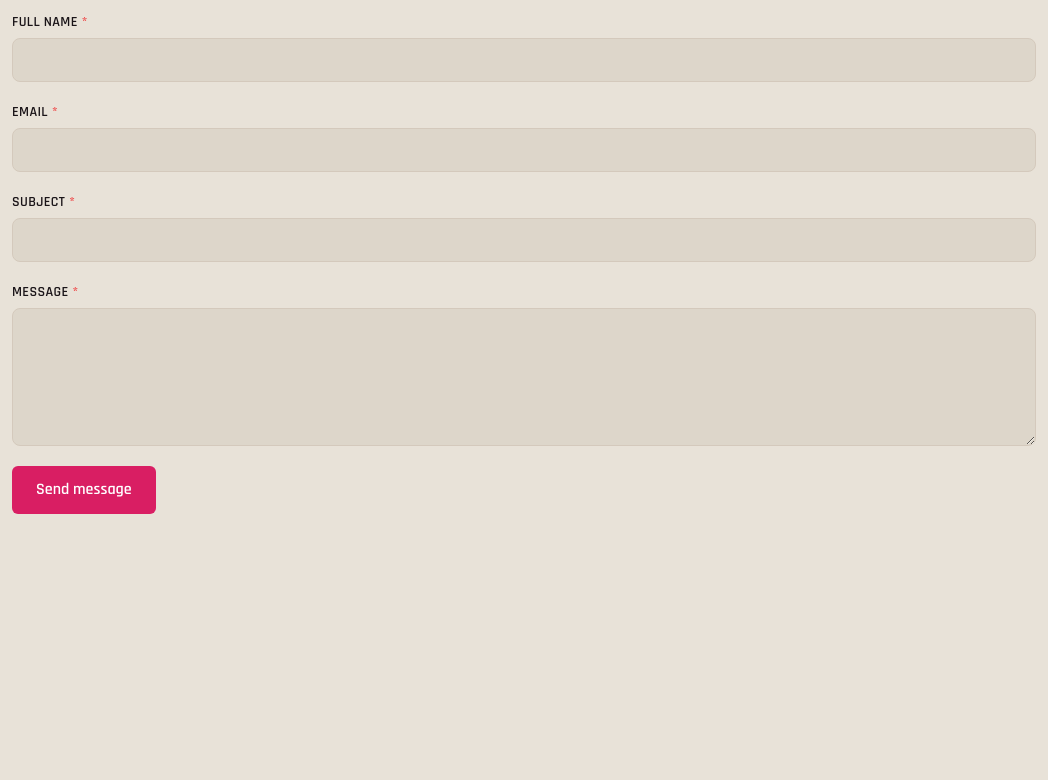
ContactForm › submits valid data and shows success
In the field labelled "Full name*": (524, 60) [12,38,1036,82], type "Asha Kulkarni"
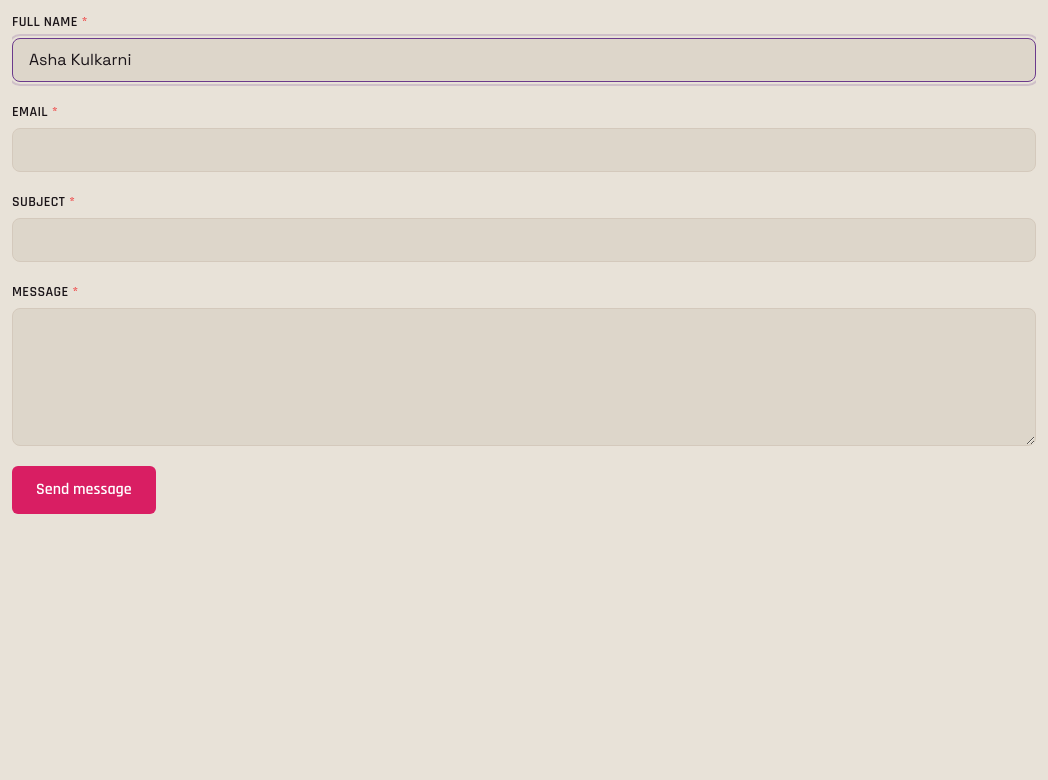
In the field labelled "Email*": (524, 150) [12,128,1036,172], type "asha@example.com"
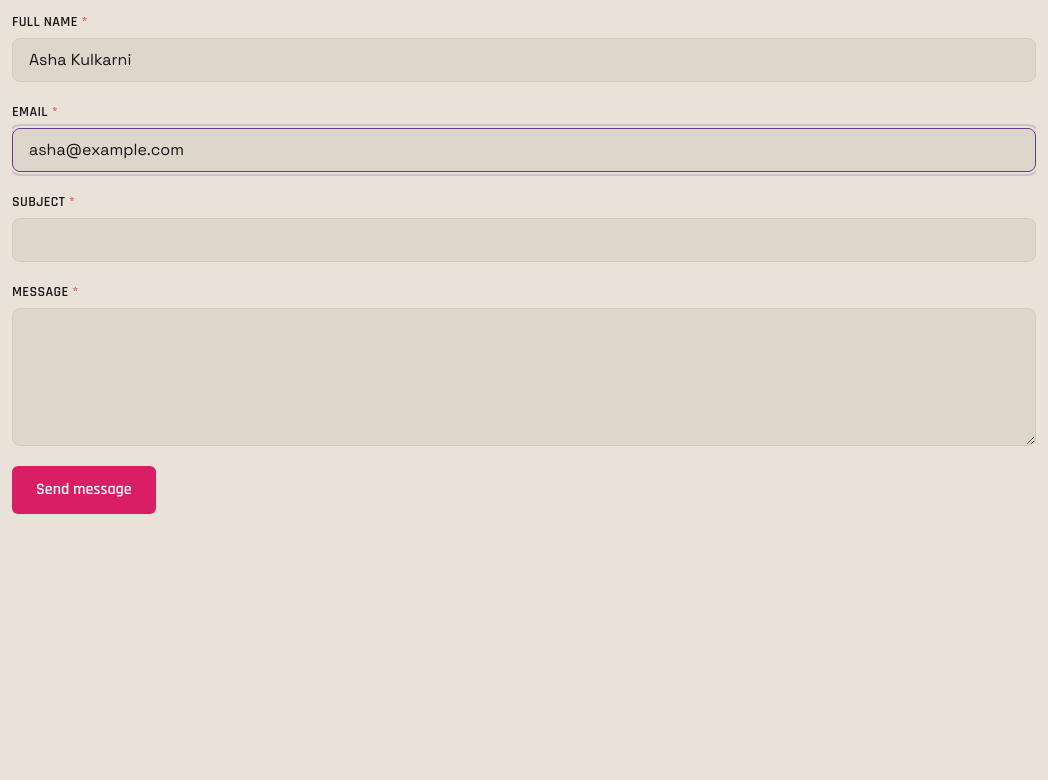
In the field labelled "Subject*": (524, 240) [12,218,1036,262], type "Bot specs"
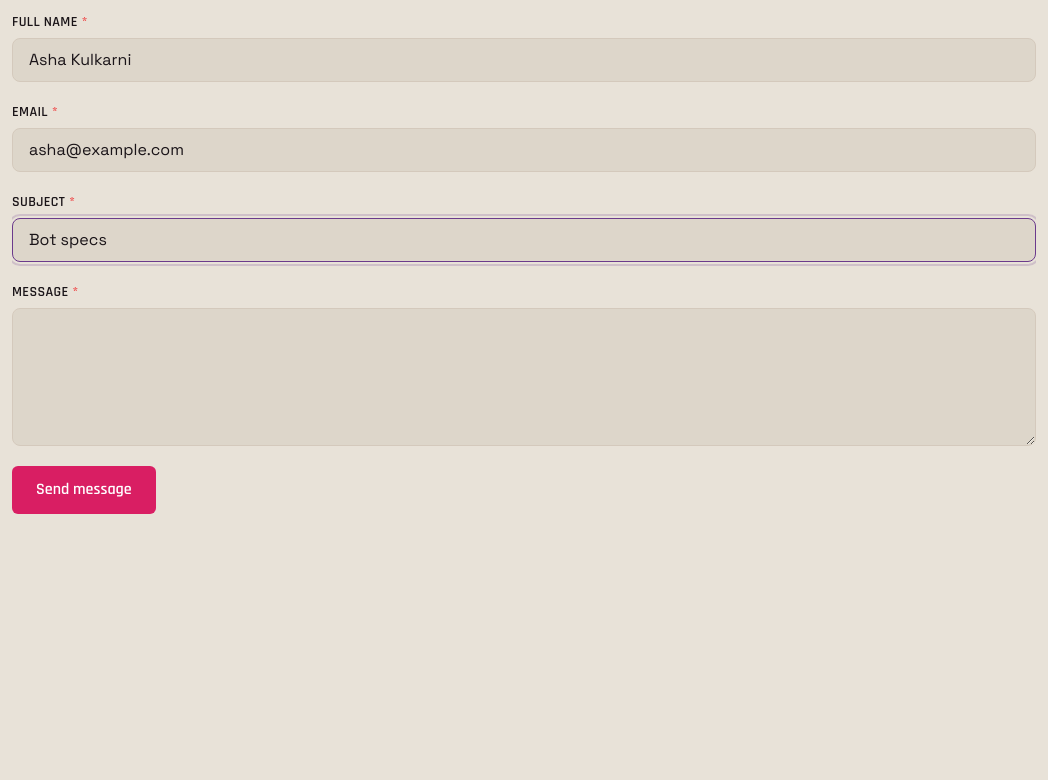
In the text box labelled "Message*": (524, 377) [12,308,1036,446], type "Please clarify the maximum weight limit for inspection day."
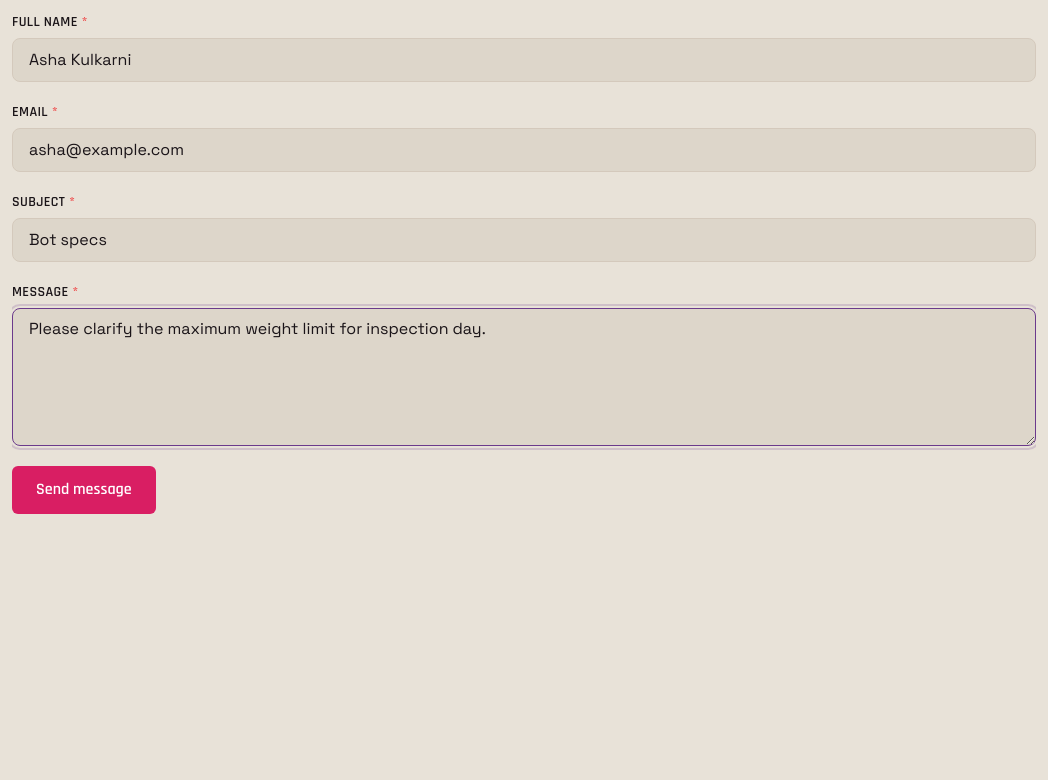
Click the button "Send message": (84, 490) [12,466,156,514]
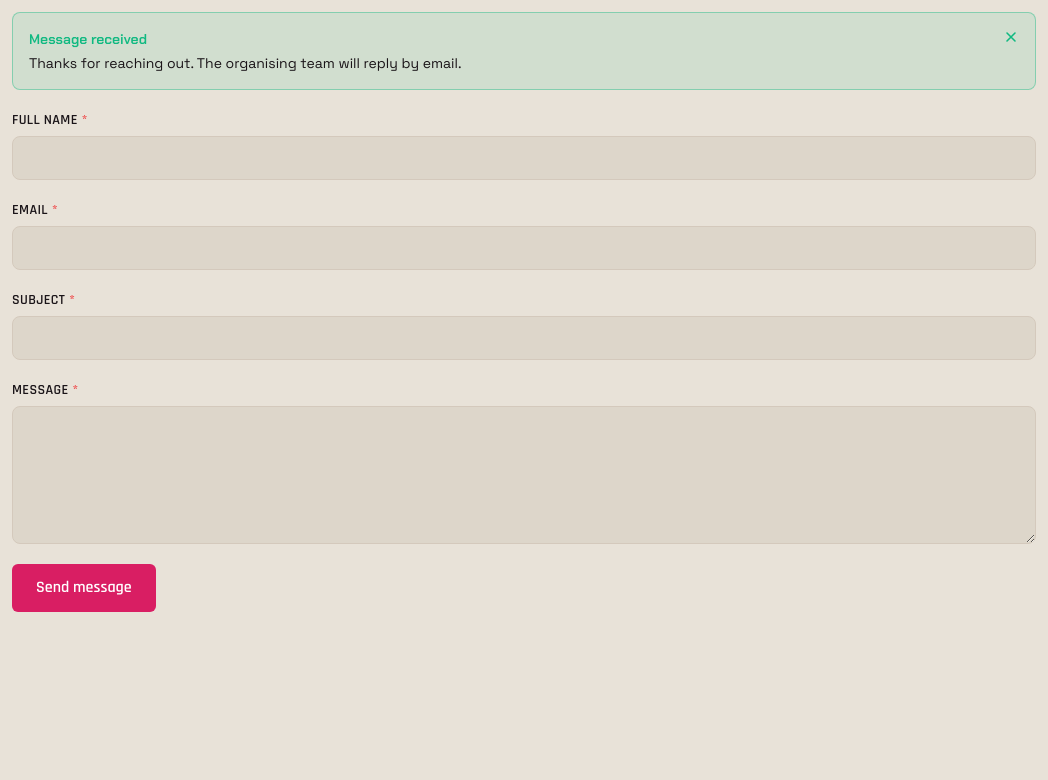
expect the text "Message received" is shown: met, box [29,30,147,48]
